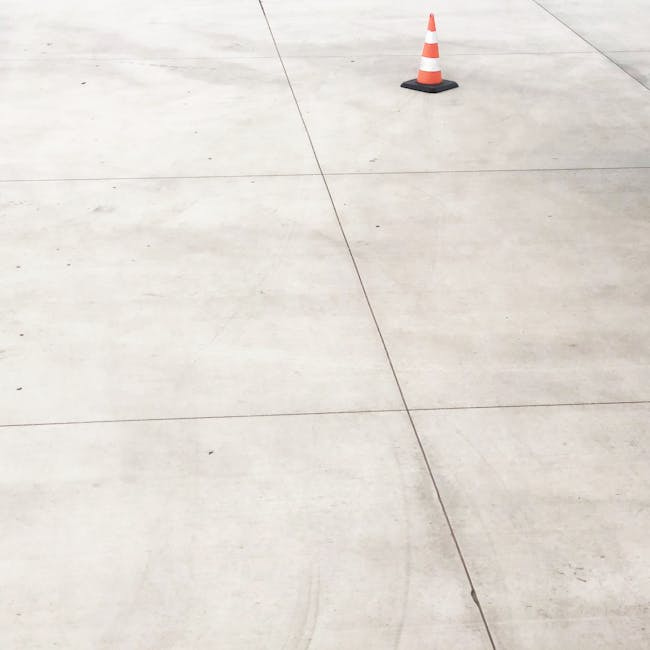traffic_cone: (400, 12, 459, 94)
